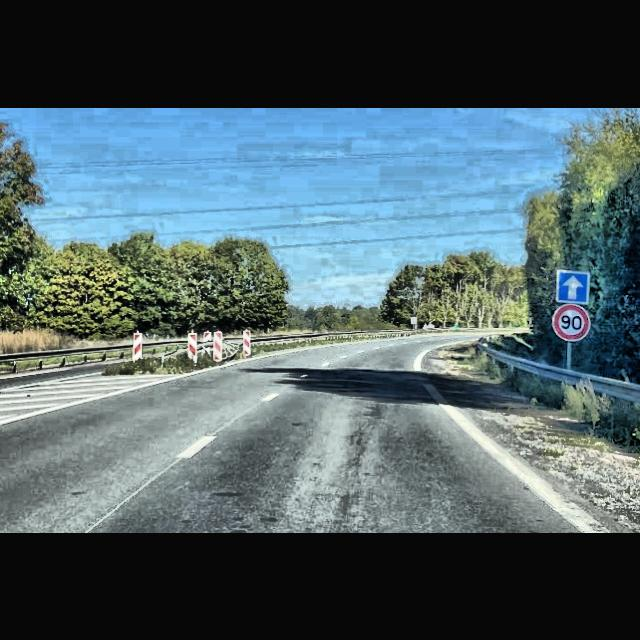speed_90: (554, 304, 590, 340)
